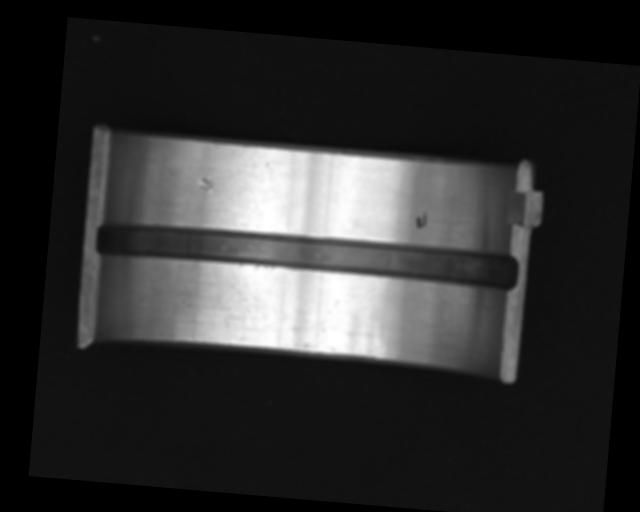blot: (415, 210, 428, 230)
bruise: (197, 173, 216, 193)
gap: (94, 215, 519, 291)
